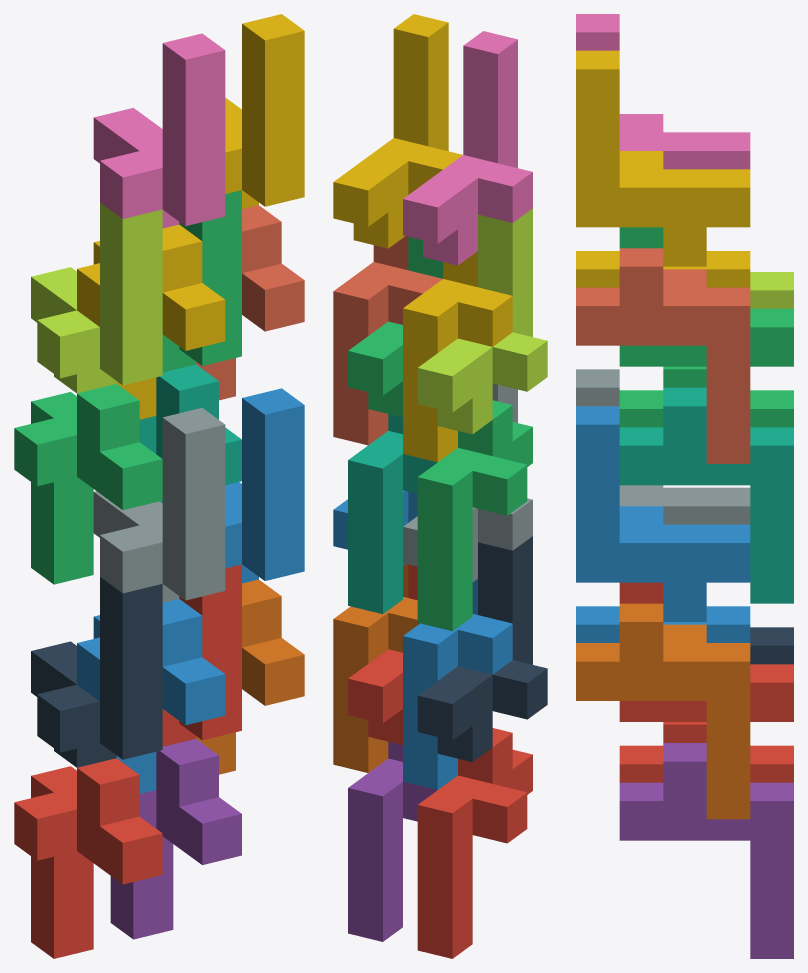
The model's file is tiling.obj.
3 renders of one model, left to right at view 1: azimuth 30°, elevation 25°; view 2: azimuth 150°, elevation 25°; view 3: azimuth 270°, elevation 25°, orthographic. The views are drawn at different scales.
Visible parts, largest first — view 1: copy_1_domain_1, copy_1_domain_3, copy_2_domain_4, copy_2_domain_2, copy_2_domain_3, copy_2_domain_1, copy_2_domain_8, copy_2_domain_6, copy_1_domain_5, copy_1_domain_2, copy_1_domain_4, copy_1_domain_6 (+4 smaller); view 2: copy_2_domain_4, copy_1_domain_3, copy_1_domain_1, copy_2_domain_8, copy_2_domain_3, copy_2_domain_1, copy_1_domain_4, copy_1_domain_5, copy_1_domain_7, copy_1_domain_8, copy_1_domain_2, copy_1_domain_6 (+4 smaller); view 3: copy_1_domain_8, copy_1_domain_6, copy_2_domain_8, copy_2_domain_6, copy_1_domain_7, copy_1_domain_5, copy_2_domain_4, copy_2_domain_2, copy_2_domain_7, copy_2_domain_5, copy_1_domain_3, copy_1_domain_1 (+4 smaller).
Boxes of the visible parts, x1=… form: copy_1_domain_1: x1=14, y1=758, x2=162, y2=958; copy_1_domain_3: x1=14, y1=384, x2=162, y2=584; copy_2_domain_4: x1=93, y1=33, x2=225, y2=228; copy_2_domain_2: x1=93, y1=408, x2=225, y2=602; copy_2_domain_3: x1=31, y1=202, x2=162, y2=393; copy_2_domain_1: x1=31, y1=577, x2=162, y2=767; copy_2_domain_8: x1=225, y1=14, x2=304, y2=208; copy_2_domain_6: x1=225, y1=388, x2=304, y2=583; copy_1_domain_5: x1=110, y1=739, x2=241, y2=939; copy_1_domain_2: x1=77, y1=599, x2=225, y2=793; copy_1_domain_4: x1=77, y1=224, x2=225, y2=419; copy_1_domain_6: x1=196, y1=579, x2=304, y2=774; copy_2_domain_4: x1=403, y1=31, x2=532, y2=265; copy_1_domain_3: x1=417, y1=400, x2=532, y2=631; copy_1_domain_1: x1=417, y1=728, x2=532, y2=958; copy_2_domain_8: x1=333, y1=14, x2=462, y2=248; copy_2_domain_3: x1=417, y1=208, x2=547, y2=434; copy_2_domain_1: x1=417, y1=536, x2=547, y2=761; copy_1_domain_4: x1=403, y1=251, x2=512, y2=462; copy_1_domain_5: x1=348, y1=741, x2=437, y2=941; copy_1_domain_7: x1=348, y1=414, x2=437, y2=614; copy_1_domain_8: x1=333, y1=236, x2=442, y2=445; copy_1_domain_2: x1=403, y1=579, x2=512, y2=789; copy_1_domain_6: x1=333, y1=564, x2=419, y2=772; copy_1_domain_8: x1=576, y1=248, x2=750, y2=463; copy_1_domain_6: x1=576, y1=603, x2=750, y2=819; copy_2_domain_8: x1=576, y1=50, x2=750, y2=266; copy_2_domain_6: x1=576, y1=406, x2=750, y2=621; copy_1_domain_7: x1=619, y1=387, x2=793, y2=603; copy_1_domain_5: x1=619, y1=743, x2=793, y2=958; copy_2_domain_4: x1=576, y1=14, x2=750, y2=169; copy_2_domain_2: x1=576, y1=369, x2=750, y2=524; copy_2_domain_7: x1=619, y1=227, x2=793, y2=366; copy_2_domain_5: x1=619, y1=582, x2=793, y2=721; copy_1_domain_3: x1=619, y1=366, x2=793, y2=427; copy_1_domain_1: x1=619, y1=722, x2=793, y2=782.
Size of the model in its own units: 5 by 23 by 5.
